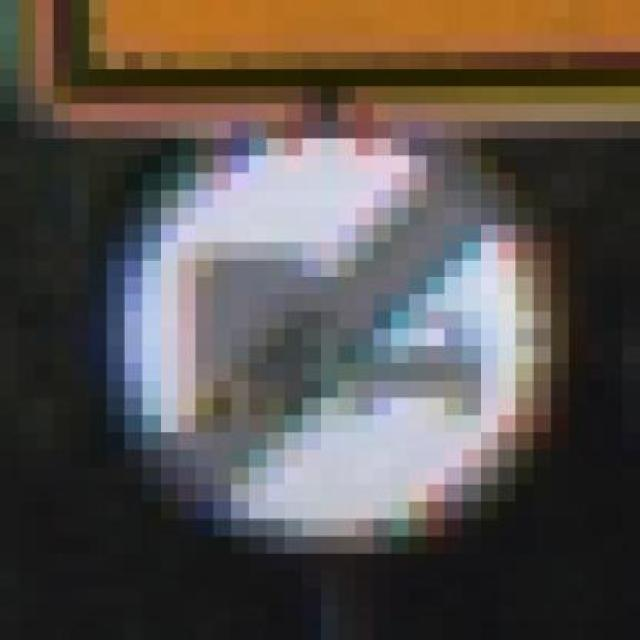Overtaking by trucks is prohibited: (89, 103, 586, 554)
